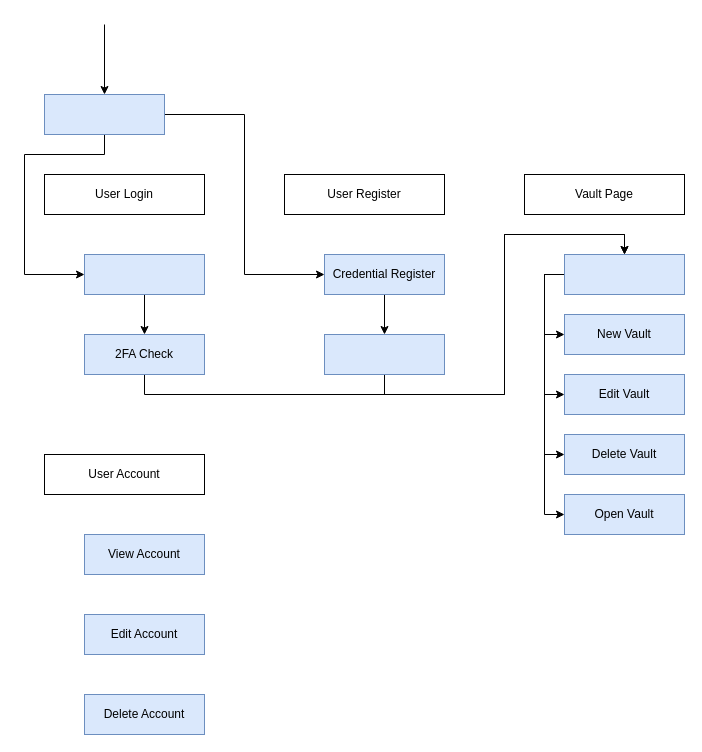
Some shapes in this 702 by 752 pixel diagram are drawn without their labels. The box of each missing label's shape, as (x1, y1, x2, y2) in pixels:
2FA Setup: (324, 334, 444, 374)
Credential Login: (84, 254, 204, 294)
Landing Page: (44, 94, 164, 134)
Vault List: (564, 254, 684, 294)
